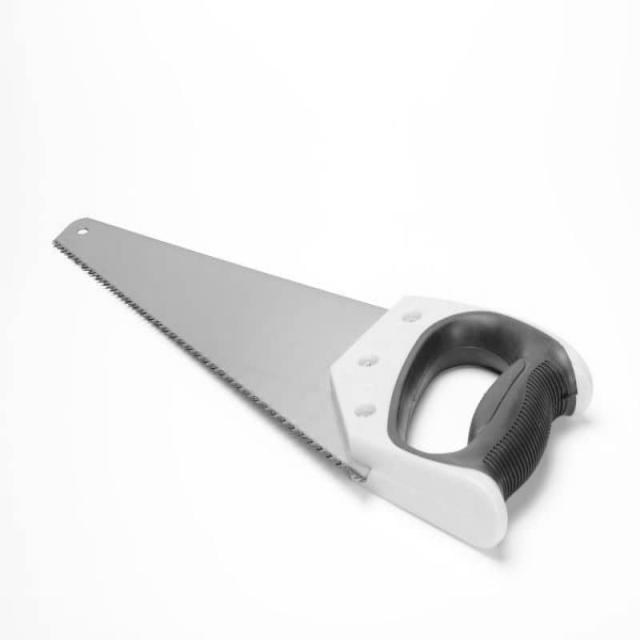saw: (46, 160, 616, 602)
